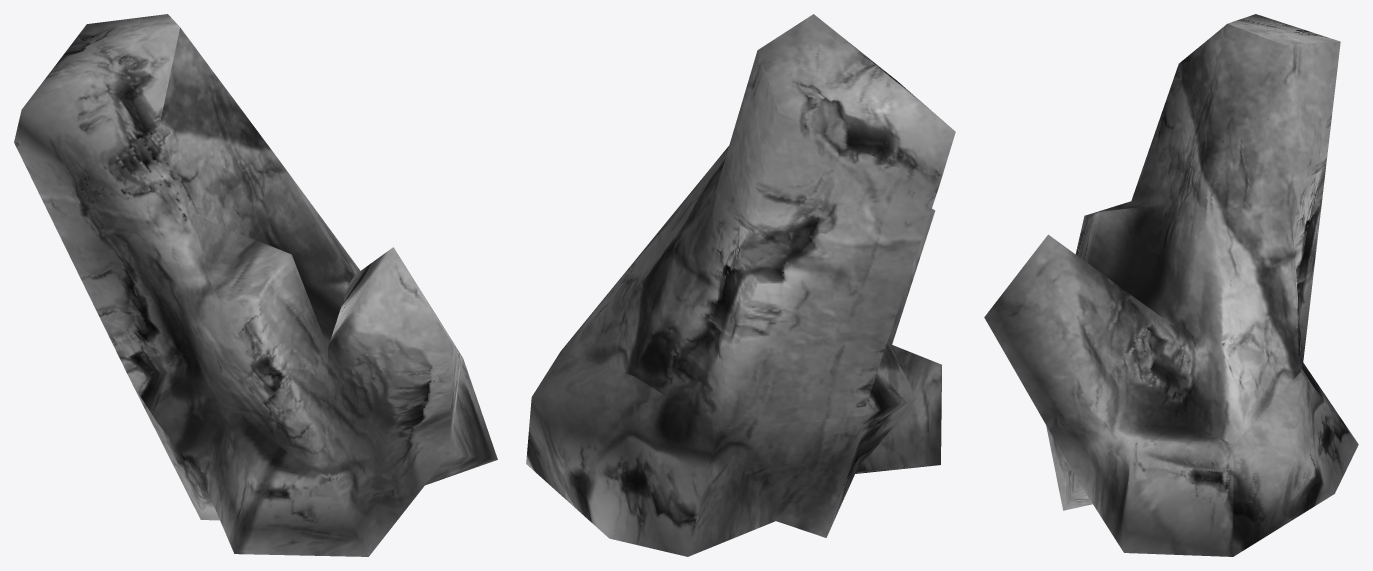
Rendered from ROCK_5.FBX.
3 renders of one model, left to right at view 1: azimuth 30°, elevation 25°; view 2: azimuth 150°, elevation 25°; view 3: azimuth 270°, elevation 25°, orthographic. The views are drawn at different scales.
Parts seen in each view (by area): view 1: 05; view 2: 05; view 3: 05.
Boxes of the visible parts, bbox=[...] form: 05: bbox=[14, 14, 497, 556]; 05: bbox=[526, 14, 955, 556]; 05: bbox=[984, 14, 1358, 556].
Bounding box in the file's own units: 684 × 789 × 604.
Materials: 1 (1 with a texture image).
